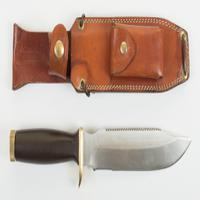knife: (8, 124, 194, 189)
